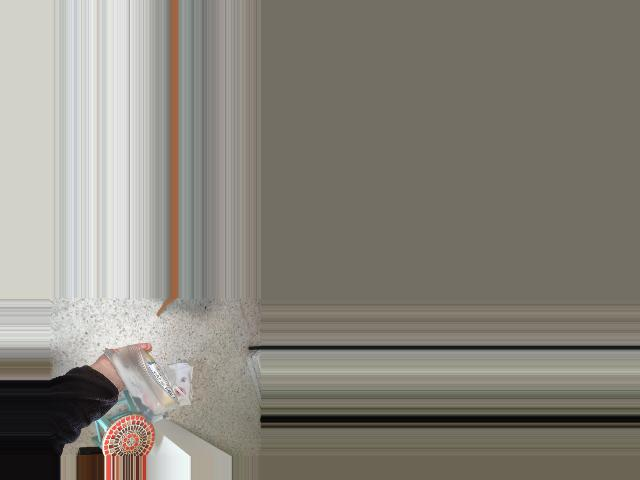cheese: (98, 337, 201, 446)
